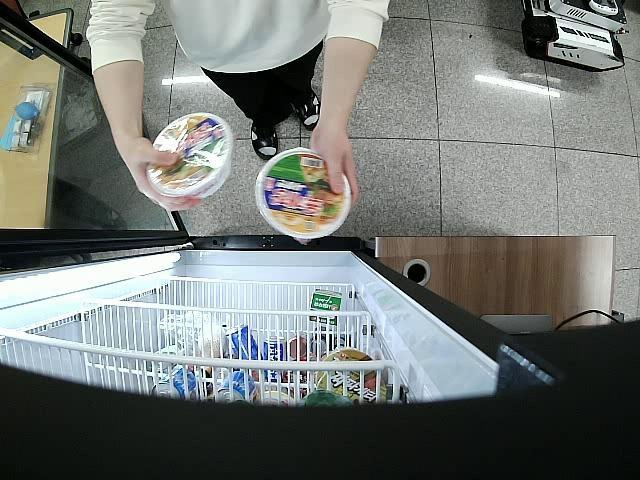09_yukGaeJang: (255, 146, 351, 238), (146, 112, 234, 204)
